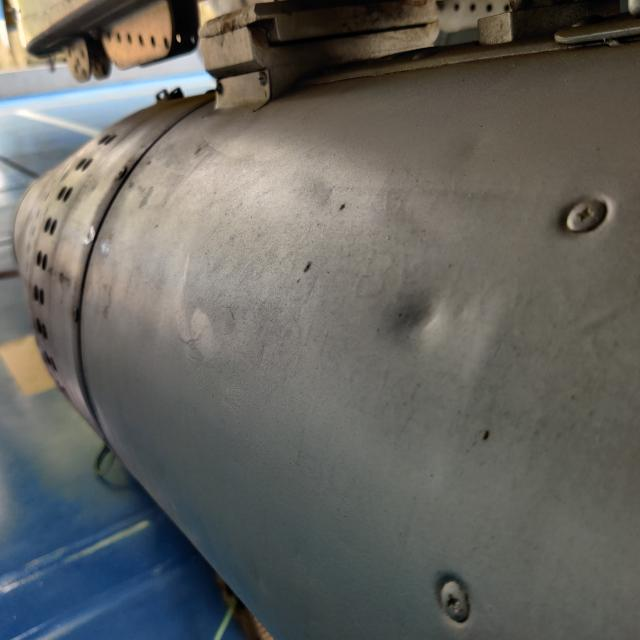dent: (352, 262, 471, 376)
